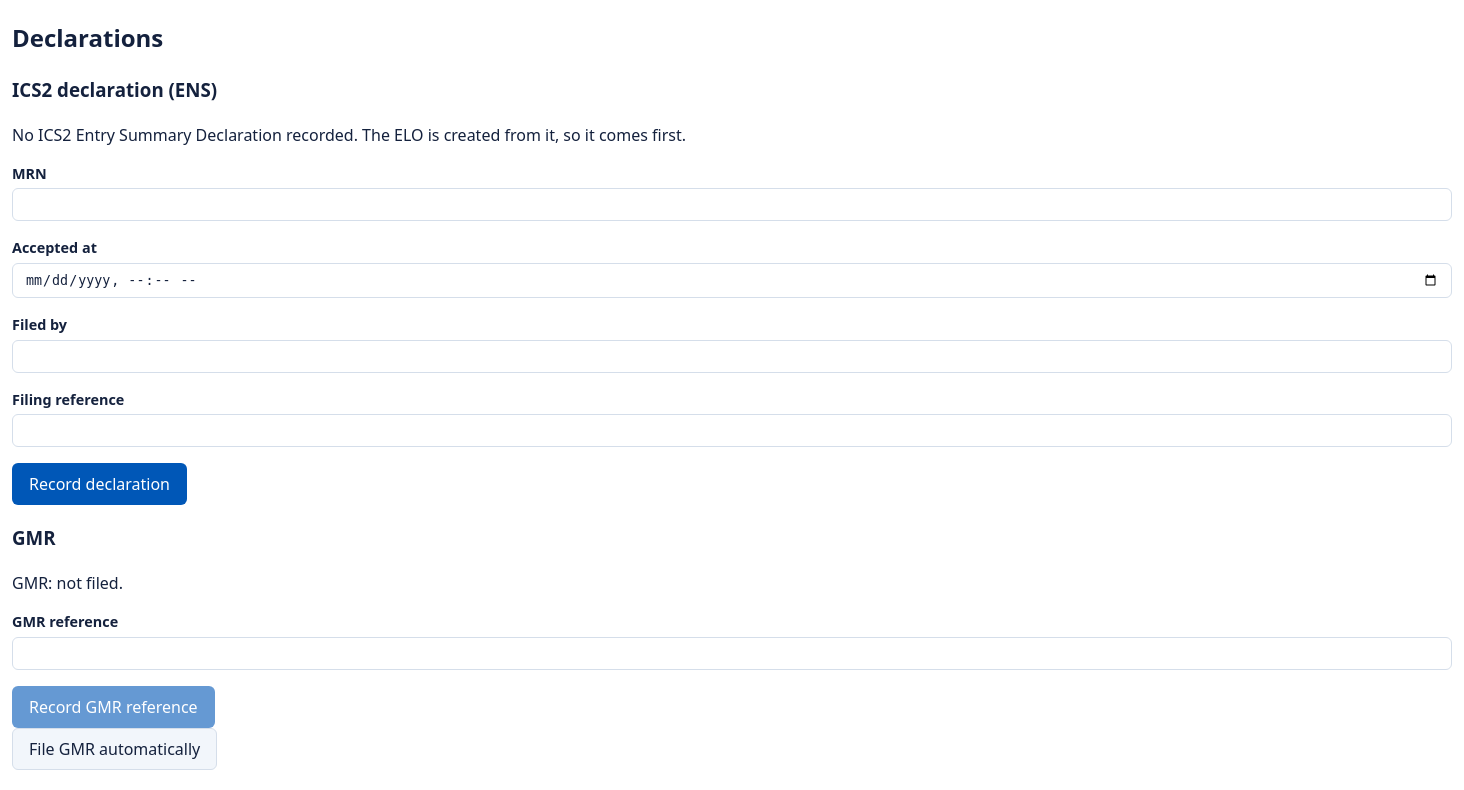
it: in manual mode the file button says to record the reference instead
Click the button "File GMR automatically".
click(115, 748)  # box [12,728,217,770]
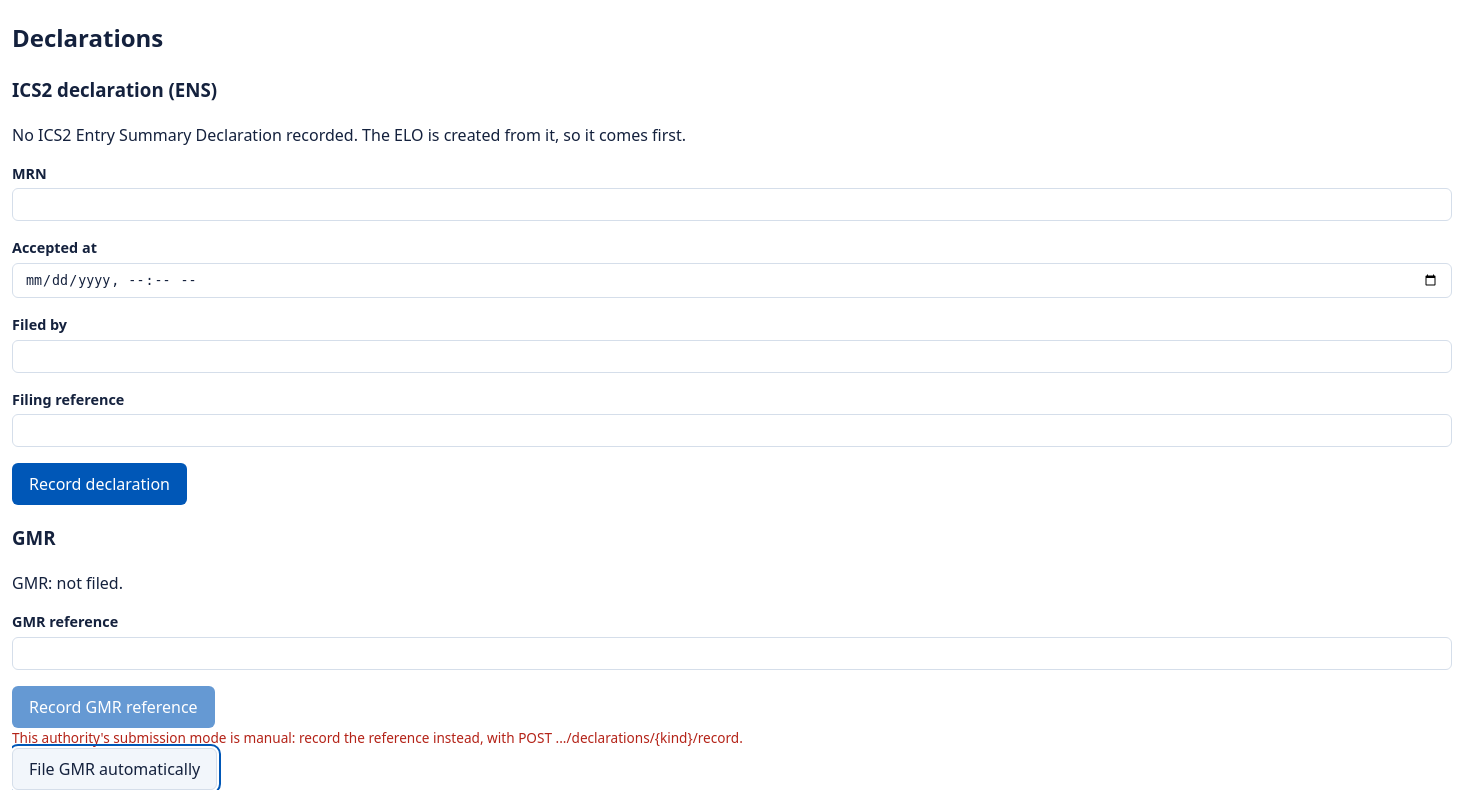
Result: the text "submission mode is manual" is shown at [12,728,743,746]
